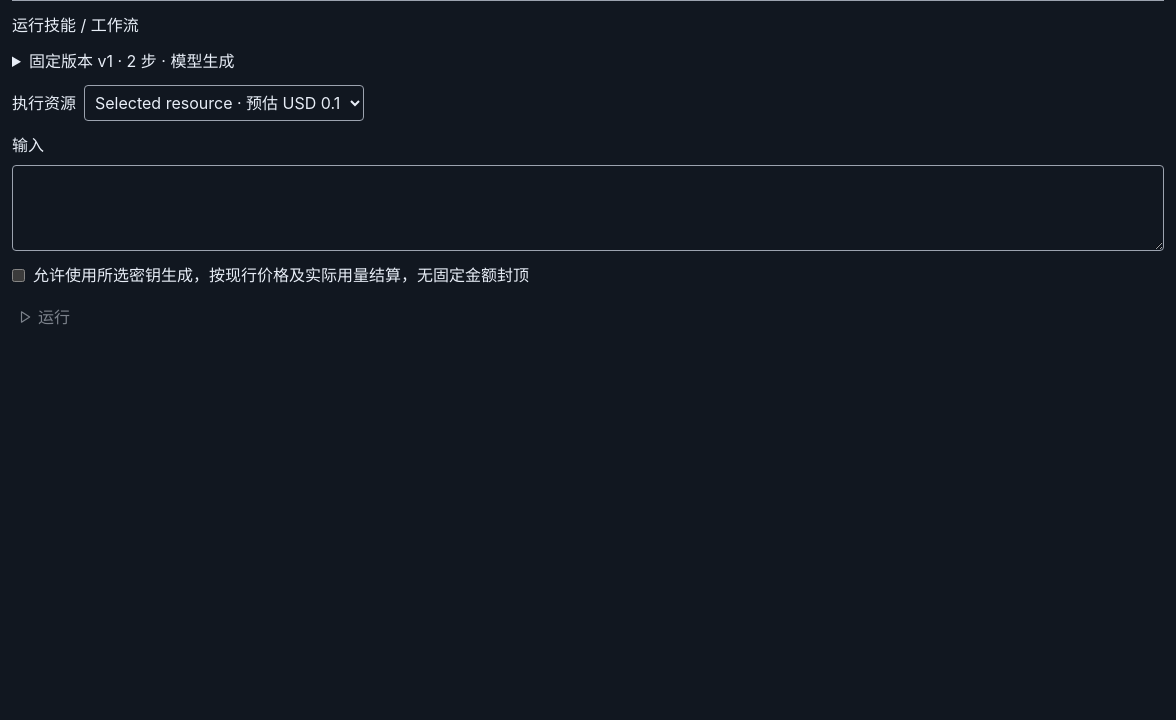
Test: AssetExecutionPanel › advances a multi-step workflow with one immutable request and displays its persisted result
The width and height of the screenshot is (1176, 720).
Type "input" into the text box labelled "输入" at point(588, 208), box [12,165,1164,251]
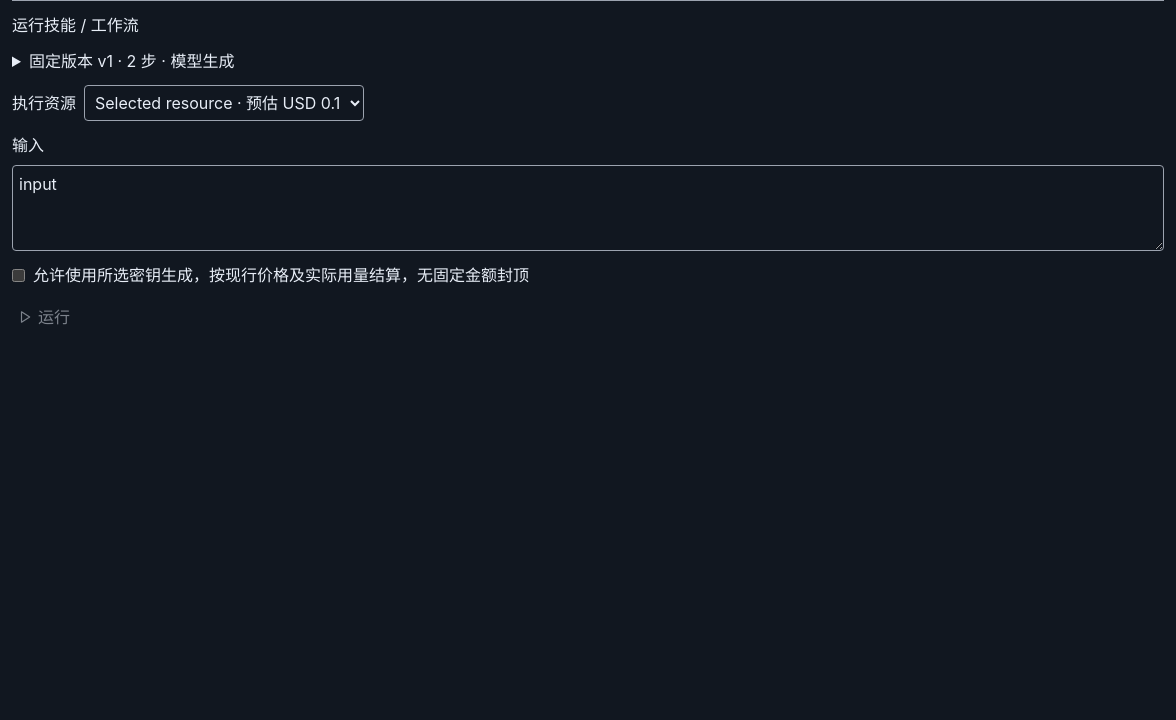
Click the checkbox labelled "允许使用所选密钥生成，按现行价格及实际用量结算，无固定金额封顶" at point(18, 275), box [12,268,25,282]
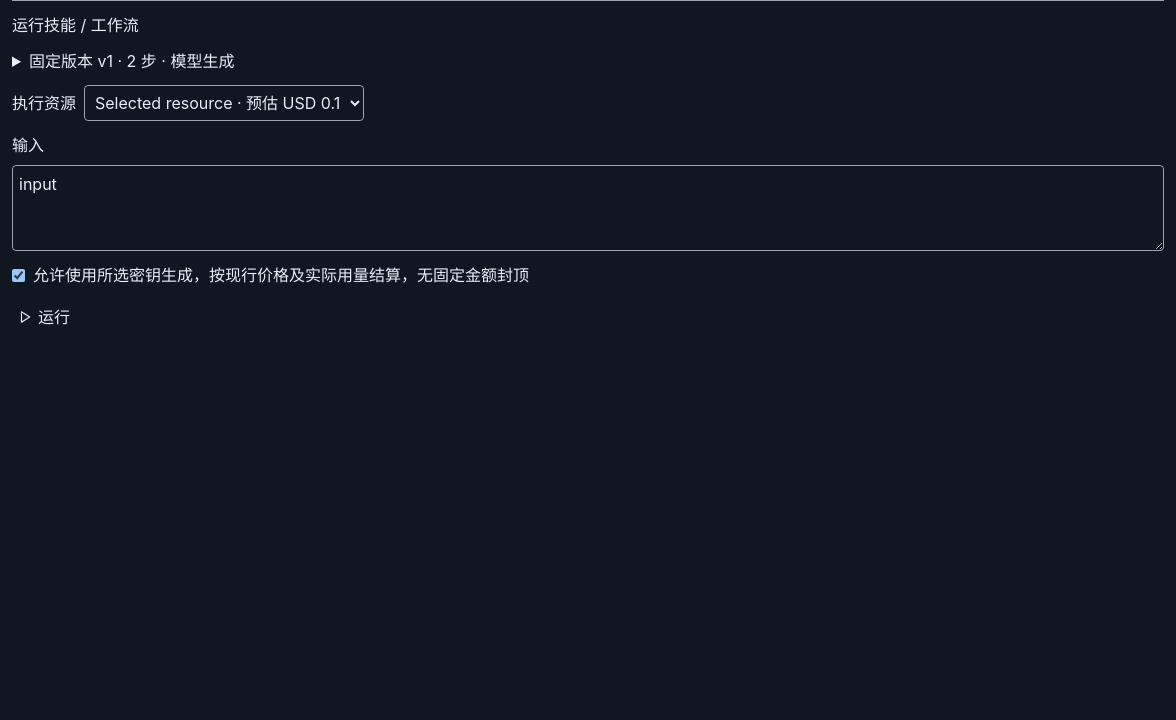
Click the button "运行" at point(54, 317), box [12,299,1164,335]
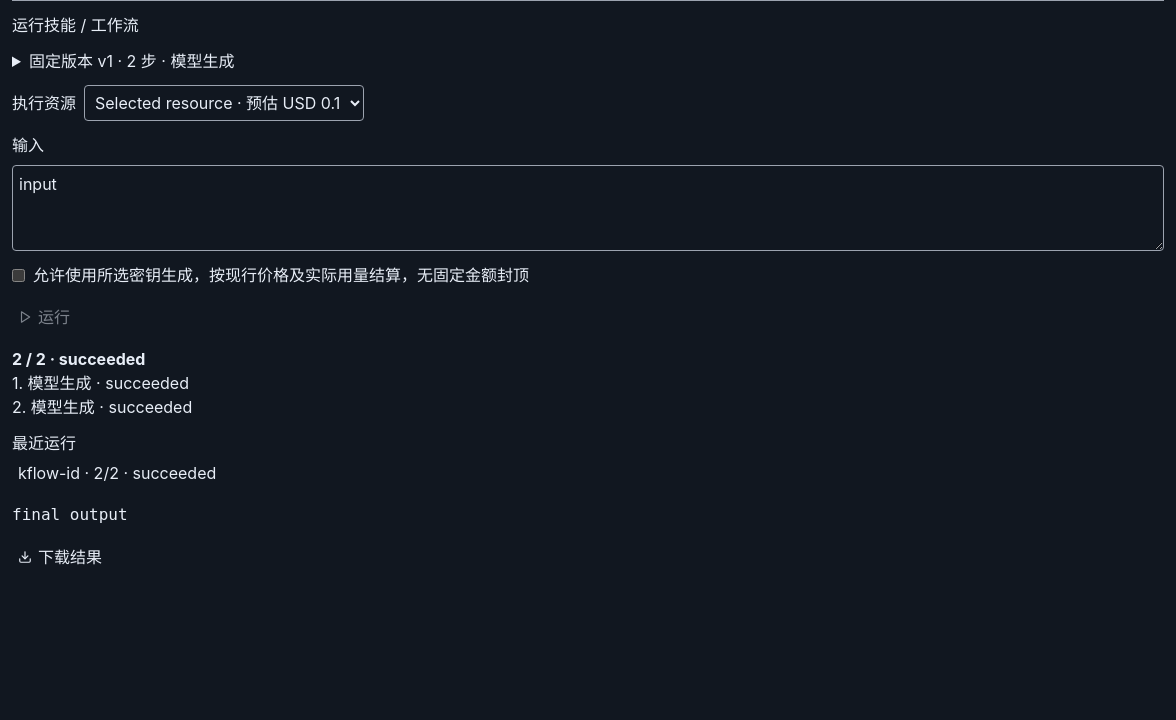
Now the text "final output" is shown, box [12,505,128,524]
Now the element named "工作流进度" shows "2 / 2", box [12,349,145,369]
Now the text "下载结果" is shown, box [12,539,1164,575]
